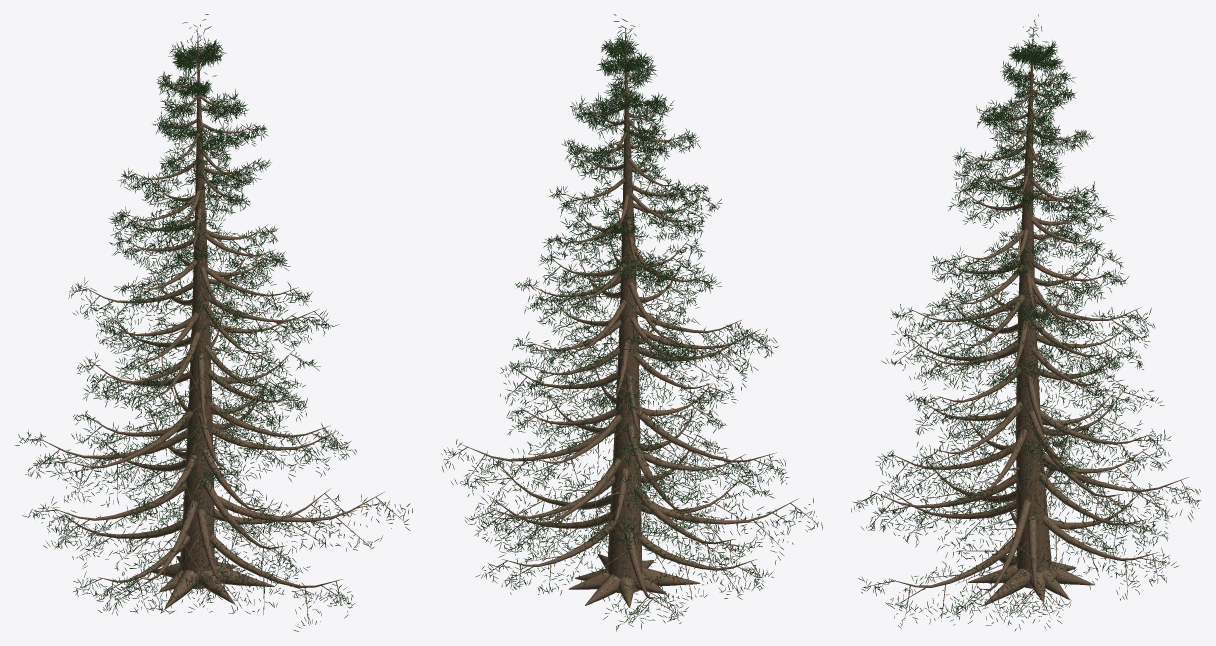
The model's file is spruce_mature_lod1.gltf.
The picture shows the model from 3 angles, left to right: view 1: azimuth 30°, elevation 25°; view 2: azimuth 150°, elevation 25°; view 3: azimuth 270°, elevation 25°; orthographic projection.
Parts seen in each view (by area): view 1: spruce_mature_lod1; view 2: spruce_mature_lod1; view 3: spruce_mature_lod1.
Boxes of the visible parts, x1=… form: spruce_mature_lod1: x1=14, y1=14, x2=412, y2=631; spruce_mature_lod1: x1=441, y1=14, x2=822, y2=631; spruce_mature_lod1: x1=851, y1=14, x2=1200, y2=631.
Size of the model in its own units: 6.42 by 10.41 by 5.74.
2 materials, 2 textured.
